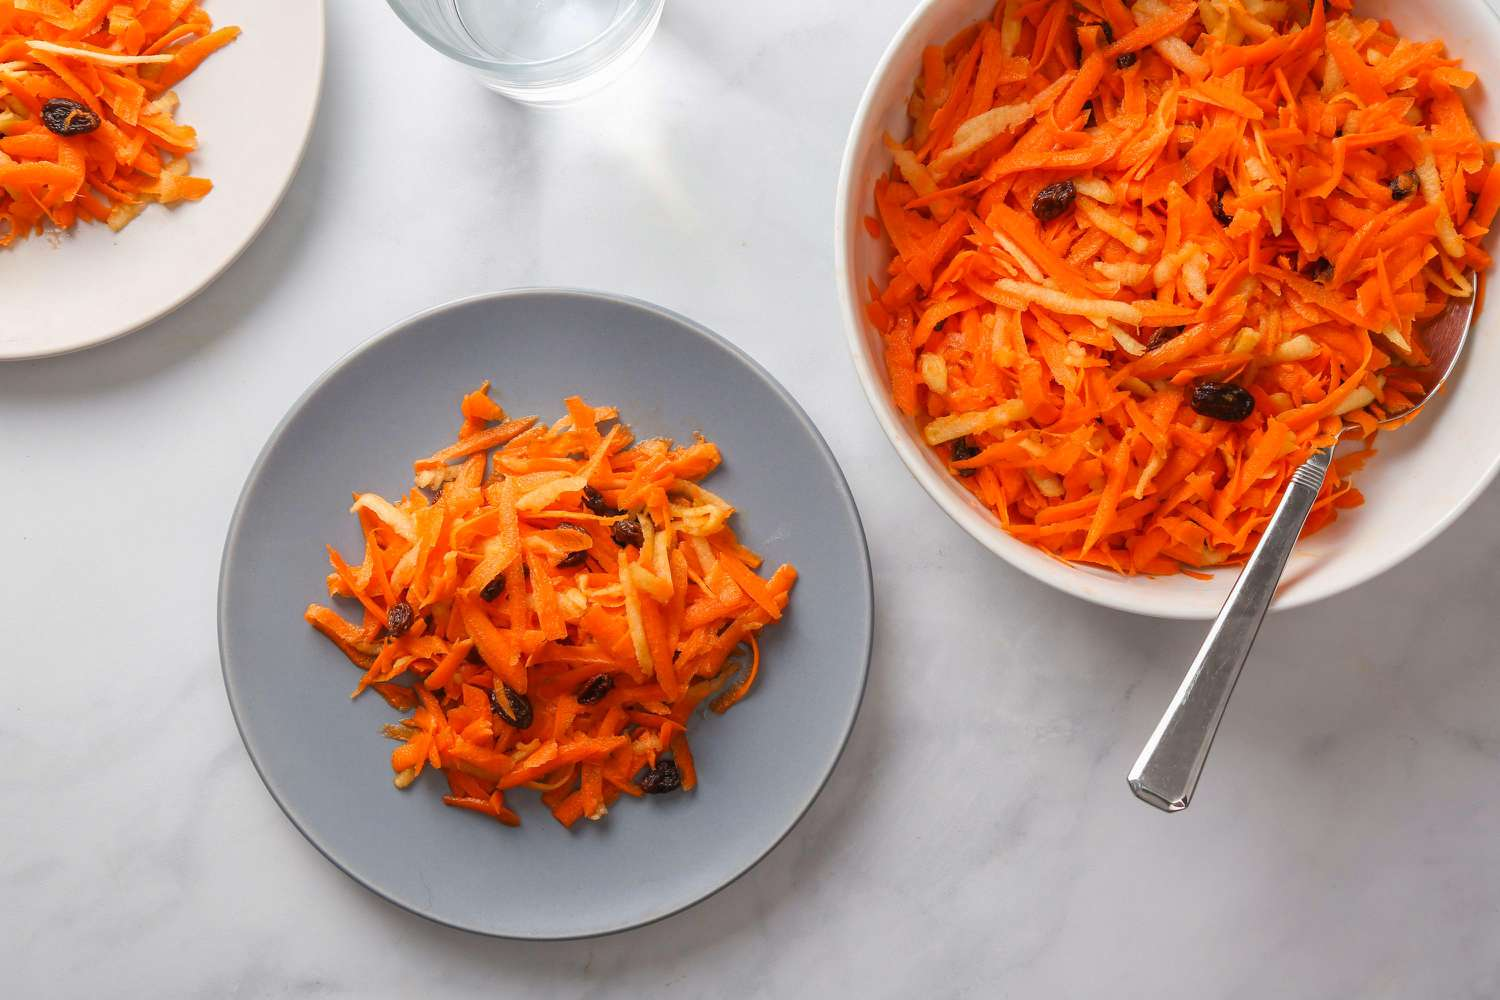carrot: (860, 4, 1500, 585), (301, 376, 800, 838)
